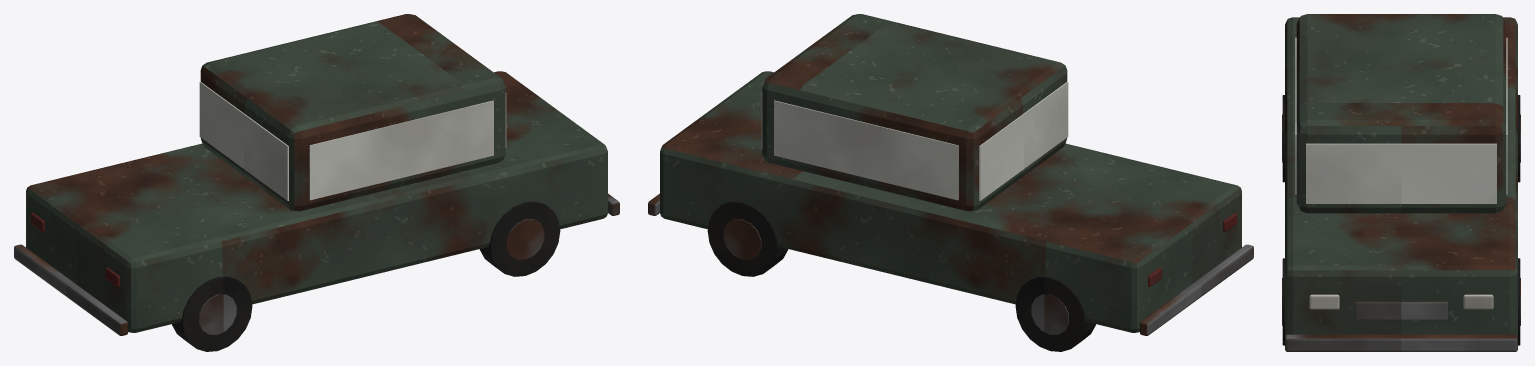
The model's file is CV01_old_sedan_v2.glb.
3 views of the same model, side by side, from view 1: azimuth 30°, elevation 25°; view 2: azimuth 150°, elevation 25°; view 3: azimuth 270°, elevation 25° (orthographic). The views are drawn at different scales.
Parts seen in each view (by area): view 1: CV01_old_sedan_v2; view 2: CV01_old_sedan_v2; view 3: CV01_old_sedan_v2.
Part boxes in pixels (box(x1,y1,x2,y2)): CV01_old_sedan_v2: box(14, 14, 619, 351); CV01_old_sedan_v2: box(648, 14, 1253, 351); CV01_old_sedan_v2: box(1282, 14, 1520, 351).
Bounding box in the file's own units: 4.4 × 1.64 × 1.67.
Materials: 6 (6 with a texture image).
